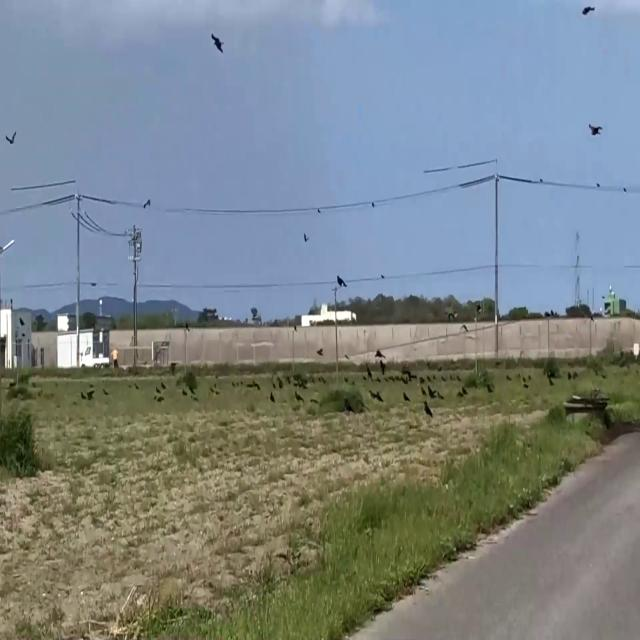bird: (210, 22, 224, 64), (588, 111, 603, 148), (581, 0, 596, 28), (5, 122, 18, 154), (423, 392, 432, 422), (336, 268, 346, 293), (143, 192, 151, 214)
